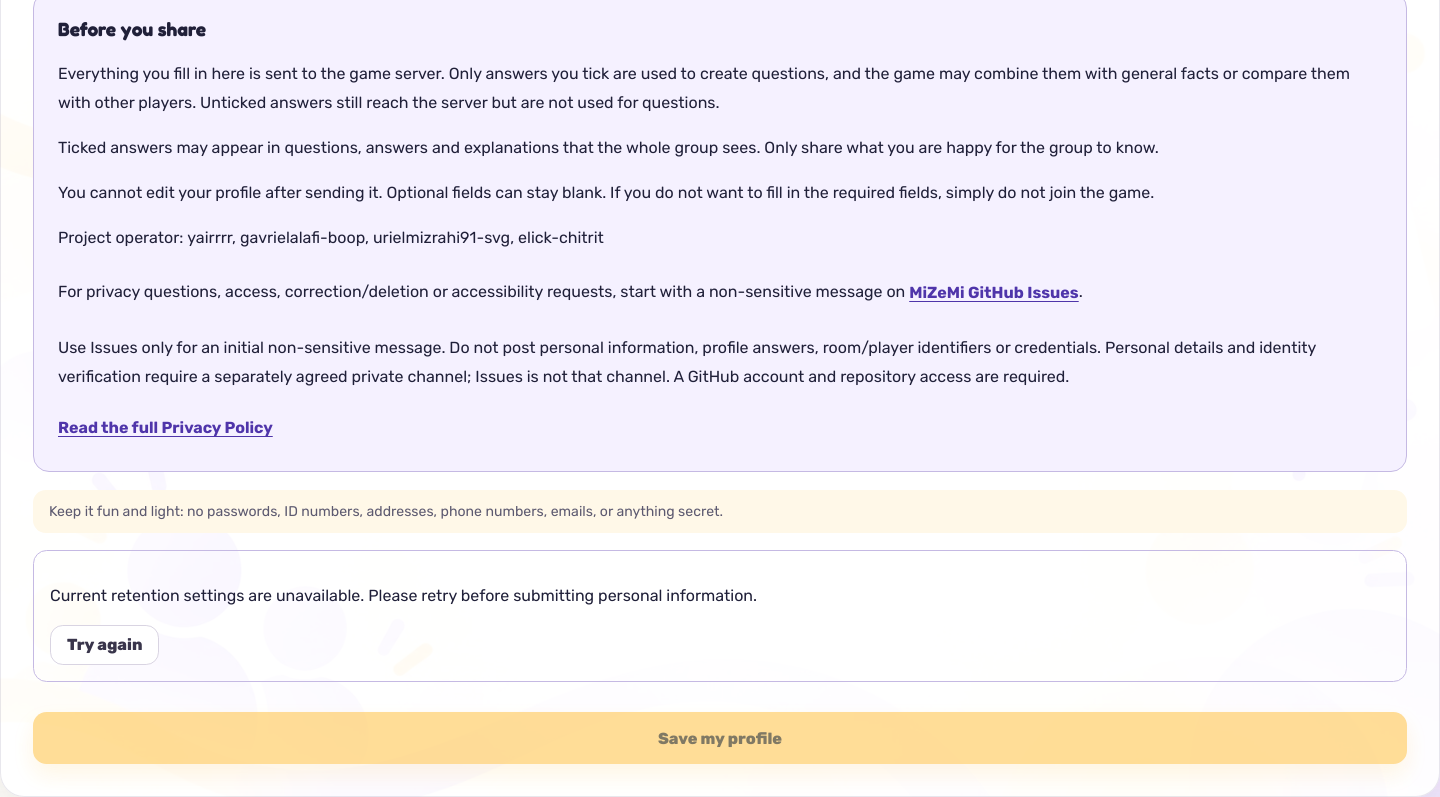
Scenario: profile submission fails closed on an older backend and retry recovers
This screenshot has width=1440, height=797.
(page scrolled)
Expected: the text "Current retention settings are unavailable. Please retry before submitting personal information." is shown, [50, 586, 757, 605]
Expected: the button "Save my profile" is disabled, [33, 712, 1407, 764]
Click the button "Try again" at [105, 645], box [50, 625, 159, 665]
(page scrolled)
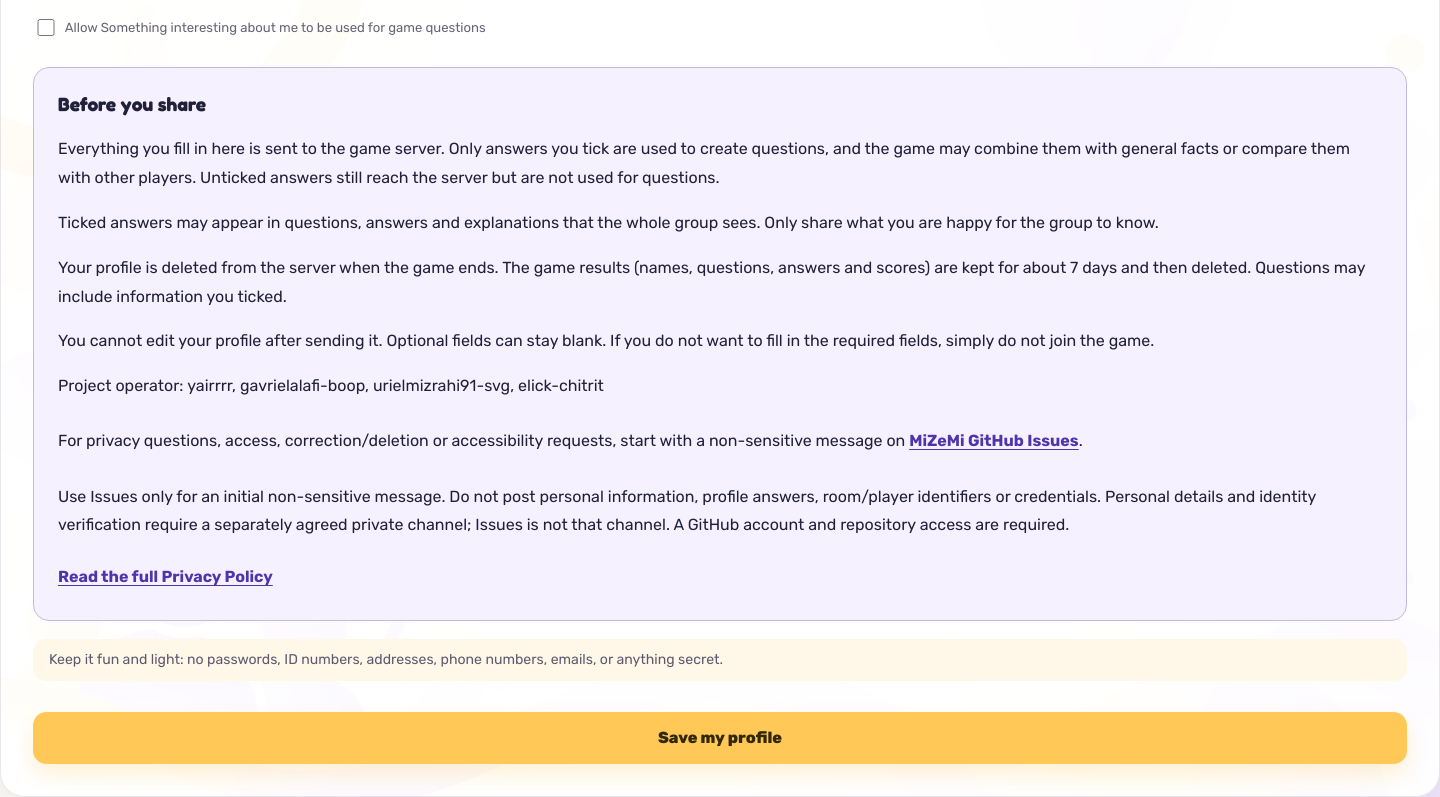
Expected: the text "Unticked answers still reach the server but are not used for questions" is shown, [58, 139, 1350, 187]
Expected: the button "Save my profile" is enabled, [33, 712, 1407, 764]
Expected: the text "kept for about 7 days and then deleted" is shown, [58, 258, 1365, 306]
